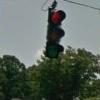Tree: (31, 53, 97, 100)
